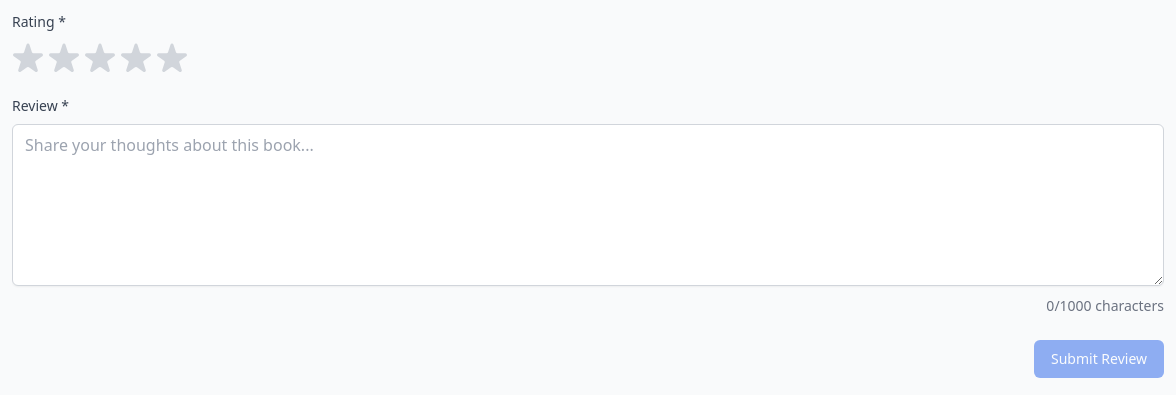
Test: ReviewForm › displays character count
Type "Hello world" into the text box with placeholder "Share your thoughts about this book..." at (588, 205), box [12,124,1164,286]
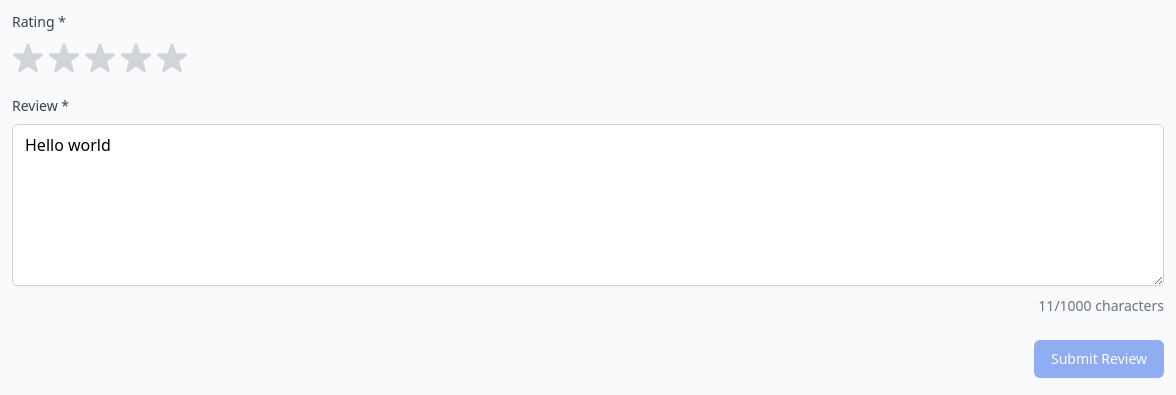
Check: the text "11/1000 characters" is shown, box [1038,296,1164,316]
